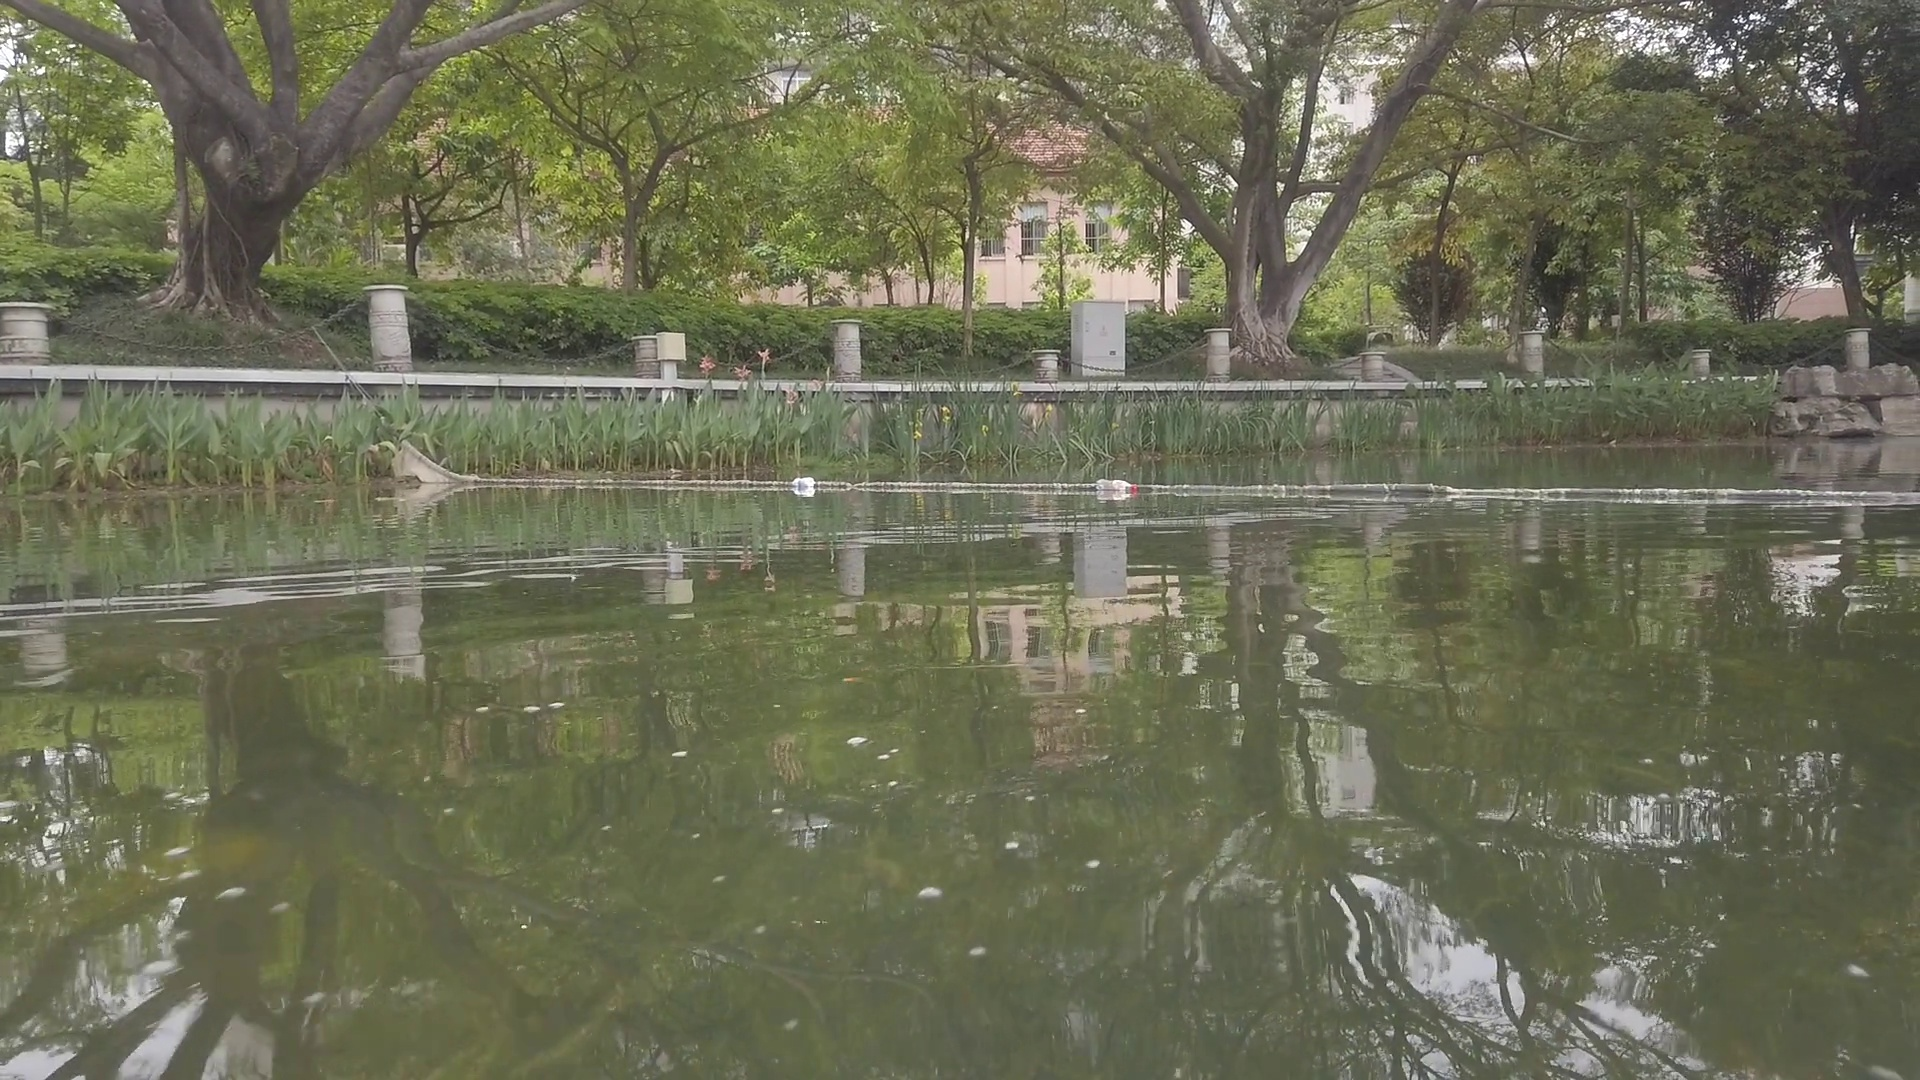bottle: (1097, 477, 1139, 495), (793, 476, 815, 488)
